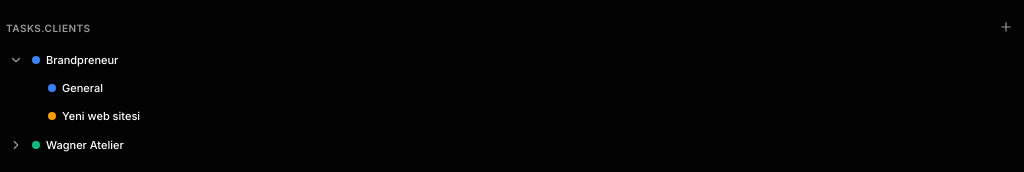
Test: ClientProjectTree › toggles expand from the chevron without selecting
Expected: the button "General" is shown, [60, 77, 992, 99]
Click the button named "Collapse Brandpreneur": x=16, y=60 [4, 48, 28, 72]
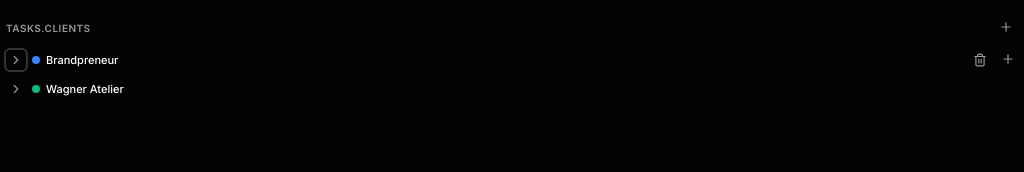
Result: the button "General" is gone
Click the button named "Expand Brandpreneur": x=16, y=60 [4, 48, 28, 72]
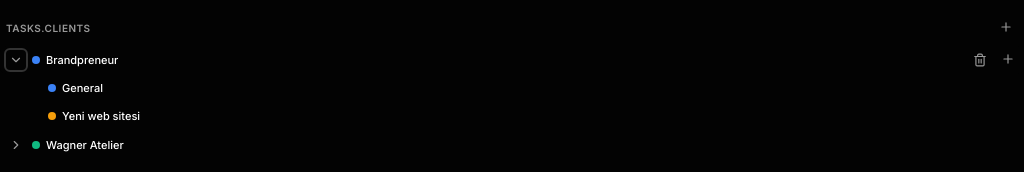
Result: the button "General" is shown at [60, 77, 992, 99]
